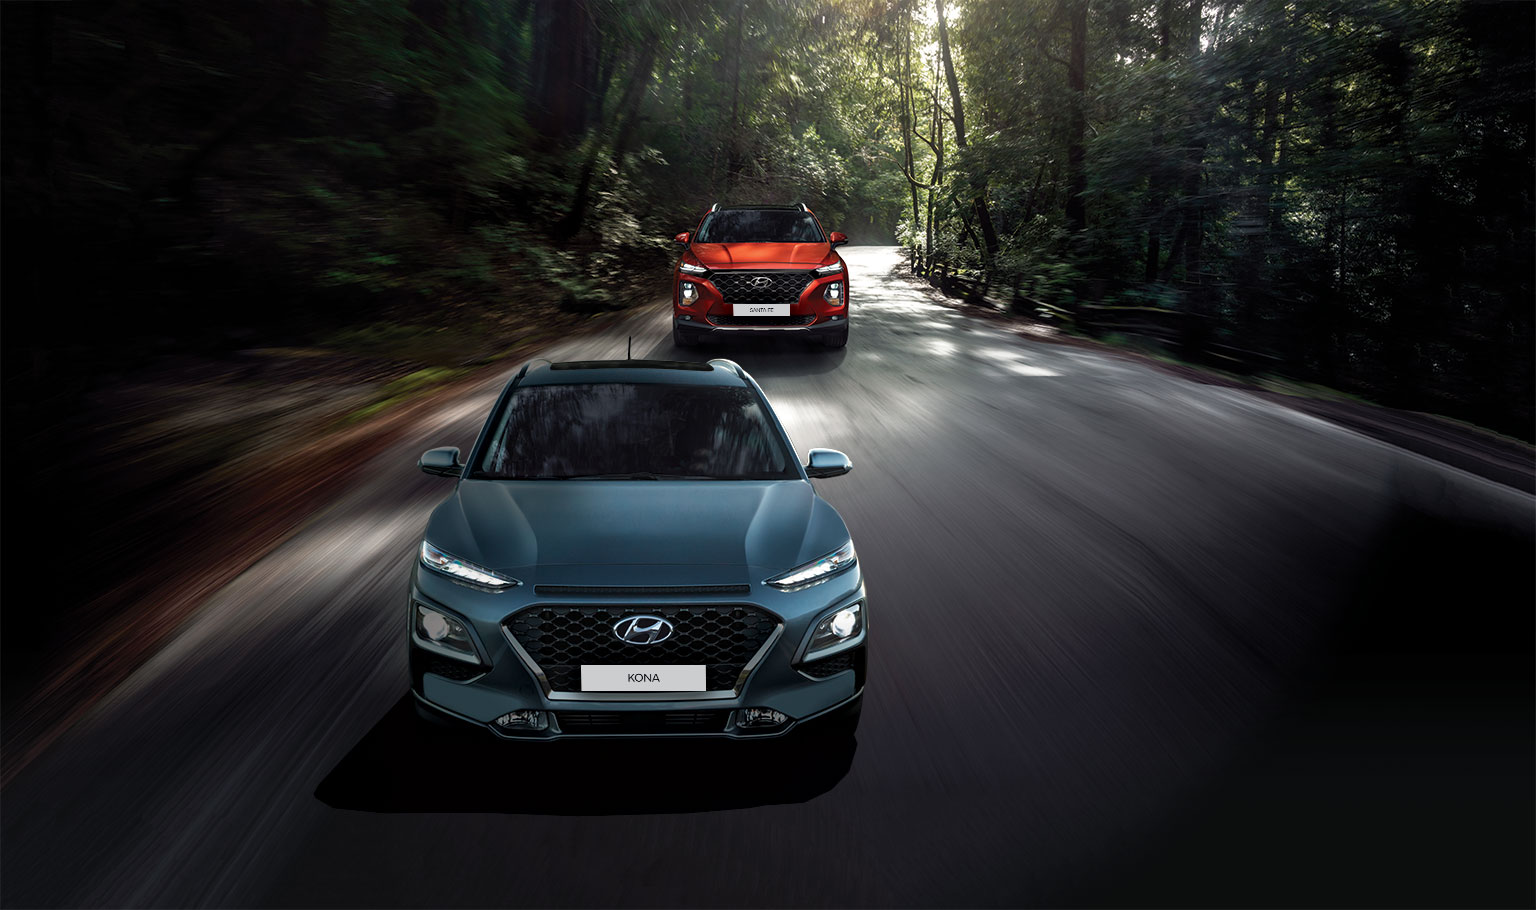car: (404, 356, 868, 747), (671, 201, 849, 352)
